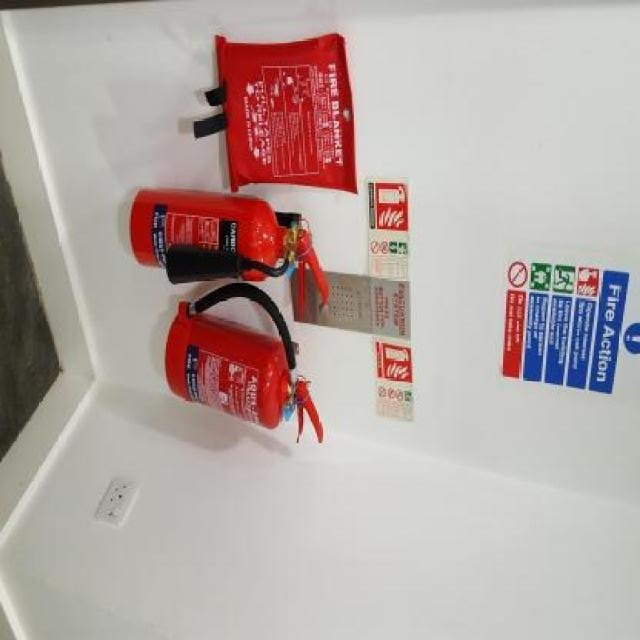fire extinguisher: (164, 283, 324, 446), (128, 188, 328, 314)
